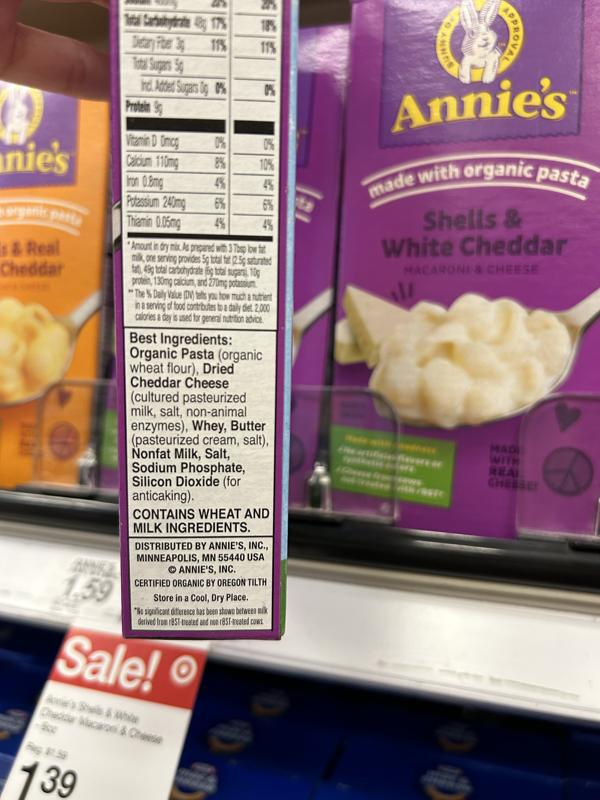ingredients: (128, 330, 269, 503)
